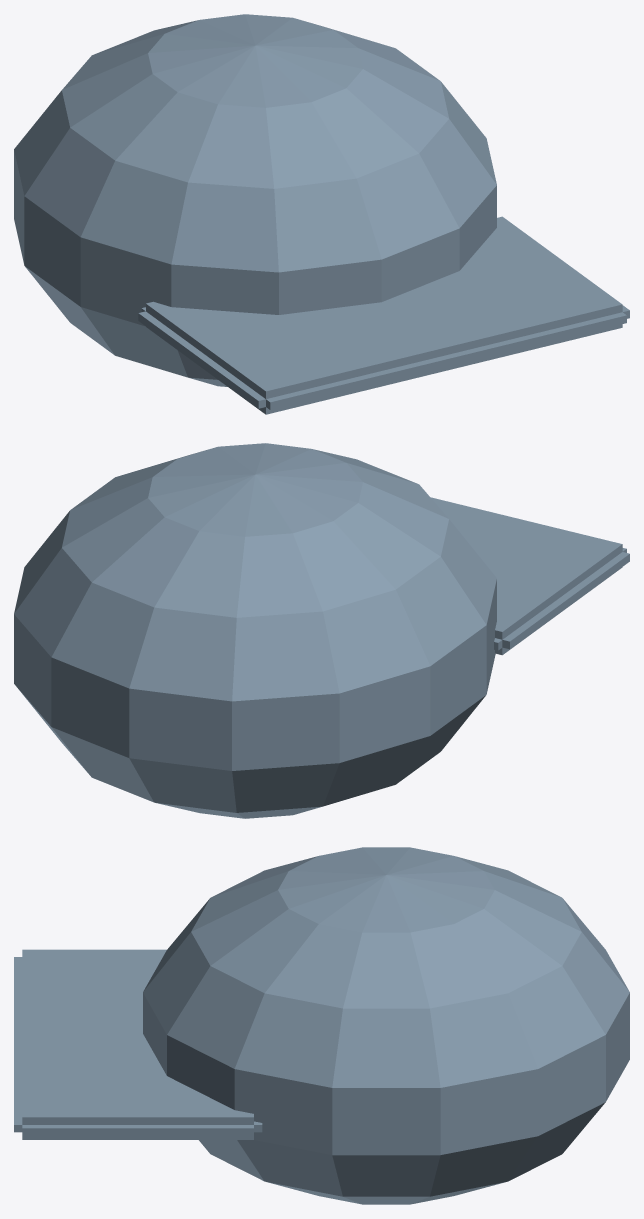
File: gorra.glb
The picture shows the model from 3 angles, top to bottom: view 1: azimuth 30°, elevation 25°; view 2: azimuth 150°, elevation 25°; view 3: azimuth 270°, elevation 25°; orthographic projection. The views are drawn at different scales.
Parts seen in each view (by area): view 1: gorra; view 2: gorra; view 3: gorra.
Boxes of the visible parts, x1,y1,x2,y2 form: gorra: [14, 14, 629, 414]; gorra: [14, 443, 629, 818]; gorra: [14, 847, 629, 1204].
Bounding box in the file's own units: 0.2186 × 0.161 × 0.2977.
